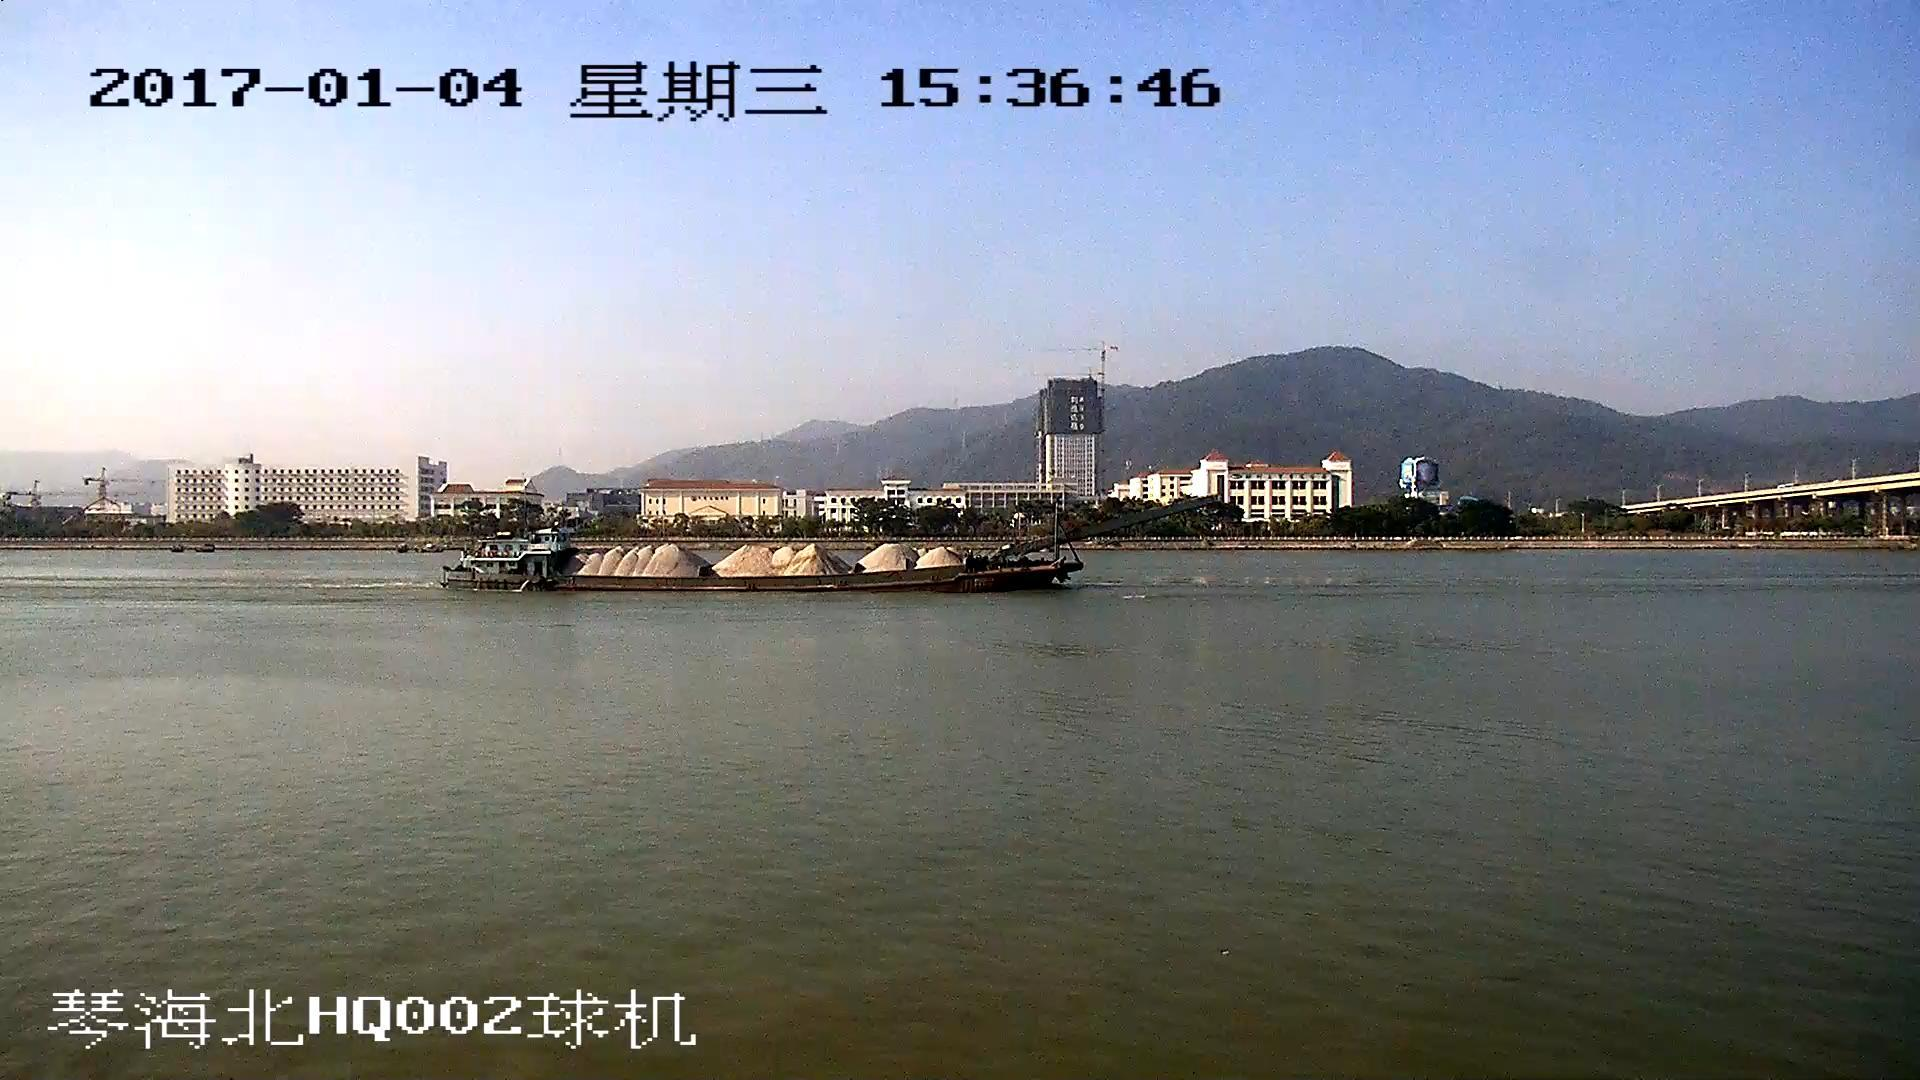Ship: (440, 500, 1216, 593)
